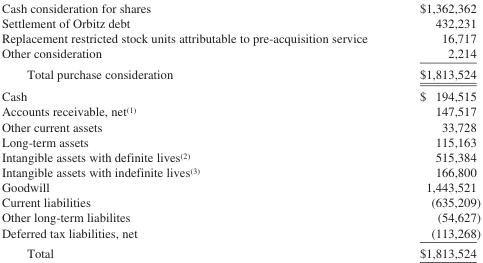table: (0, 0, 479, 259)
table column: (0, 0, 392, 259), (392, 0, 479, 259)
table row: (0, 63, 479, 84), (0, 84, 479, 103), (0, 45, 479, 63), (0, 224, 479, 242), (0, 242, 479, 259), (0, 133, 479, 149), (0, 0, 479, 15), (0, 15, 479, 30), (0, 30, 479, 45), (0, 103, 479, 118), (0, 118, 479, 133), (0, 149, 479, 164), (0, 164, 479, 179), (0, 179, 479, 194), (0, 194, 479, 209), (0, 209, 479, 224)
